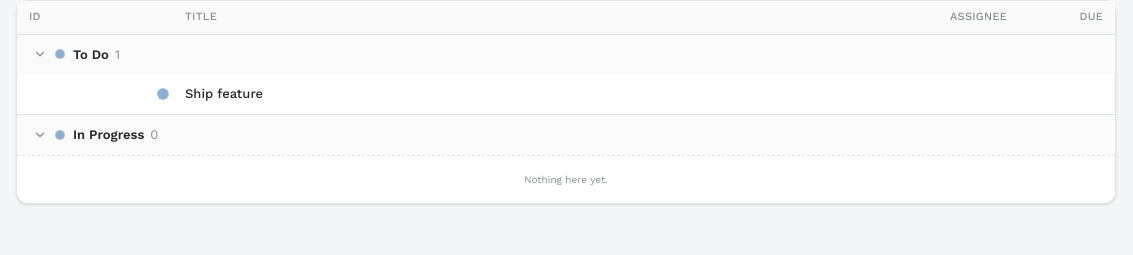
Test: ListView › expands a collapsed target group when a card moves there
Click the button "In Progress0": (96, 135) [29,123,162,146]
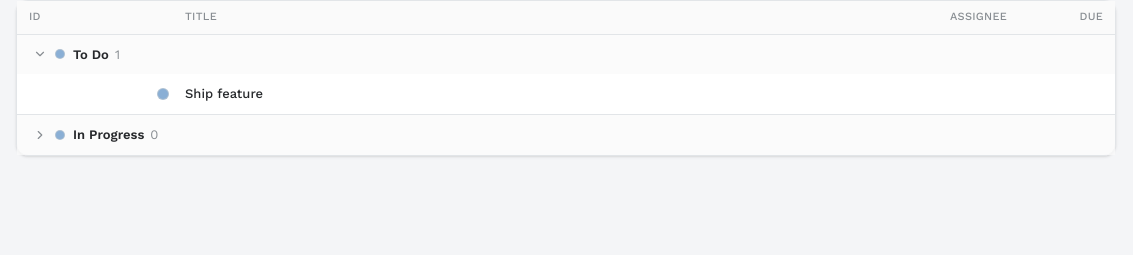
Result: the button "In Progress0" is collapsed at [29,123,162,146]
Click the button named "To Do, Ship feature": (163, 94) [151,82,175,106]
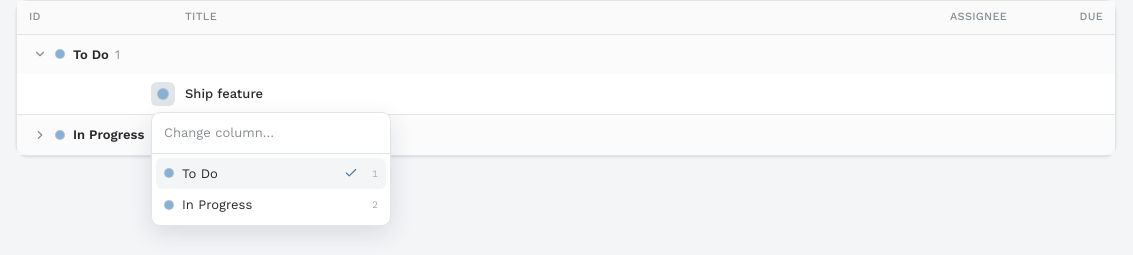
Click the option "In Progress 2": (271, 205) [156,189,386,220]
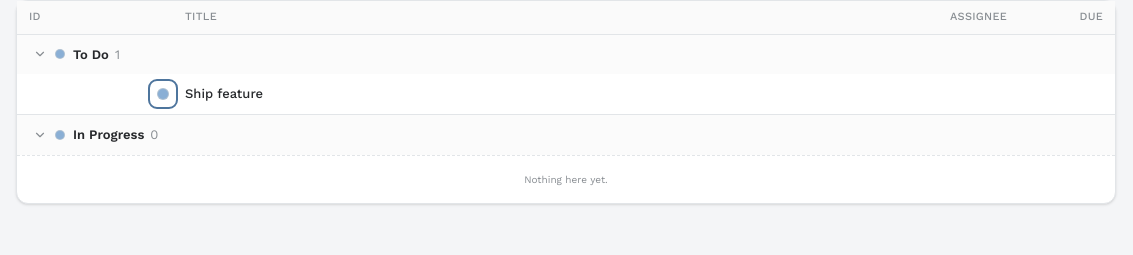
Result: the button "In Progress0" is expanded at [29,123,162,146]
